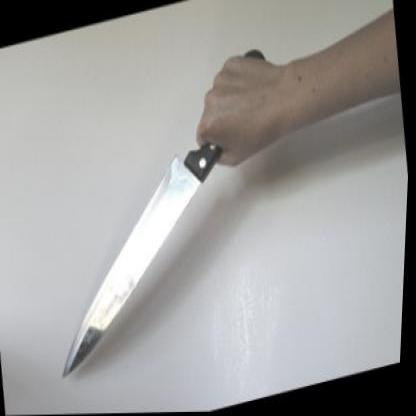knife: (21, 56, 284, 391)
